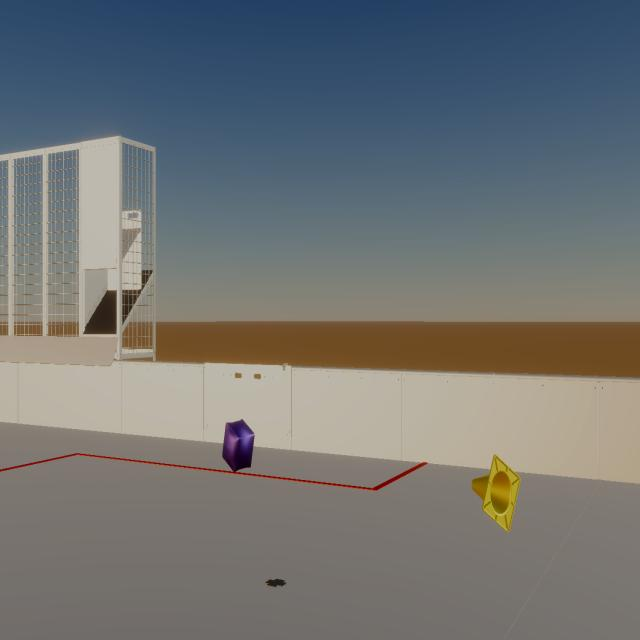frc_cone: (472, 455, 520, 532)
frc_cube: (222, 419, 255, 472)
